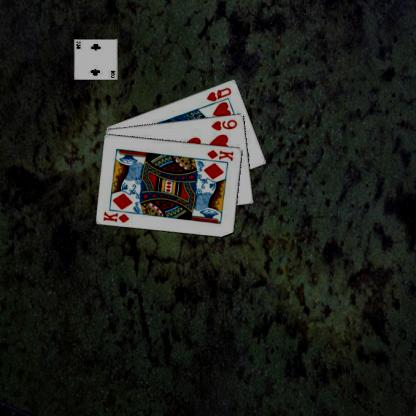9H: (209, 117, 238, 131)
KD: (204, 147, 235, 162), (101, 209, 130, 224)
QH: (204, 84, 233, 102)
